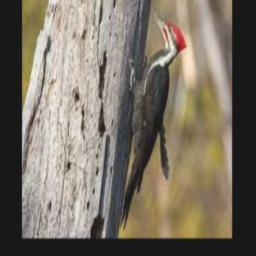Woodpecker: (120, 9, 187, 228)
